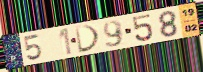1: (56, 27, 73, 57)
5: (131, 12, 155, 42), (22, 33, 44, 62)
8: (157, 10, 180, 38)
9: (103, 19, 125, 48)
D: (74, 24, 102, 54)
